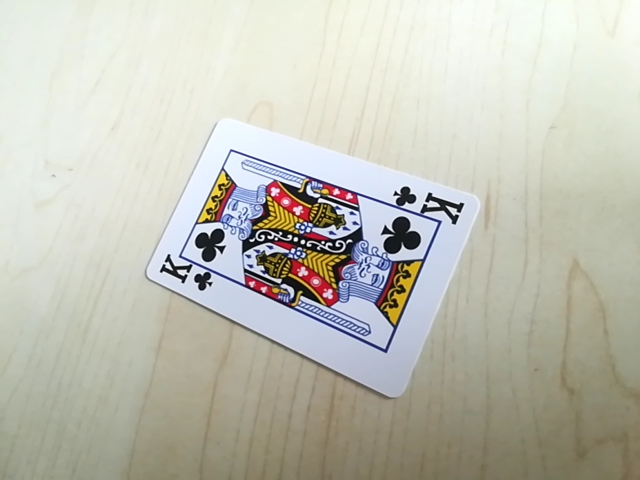mh k: (386, 185, 468, 219), (155, 261, 220, 293)
